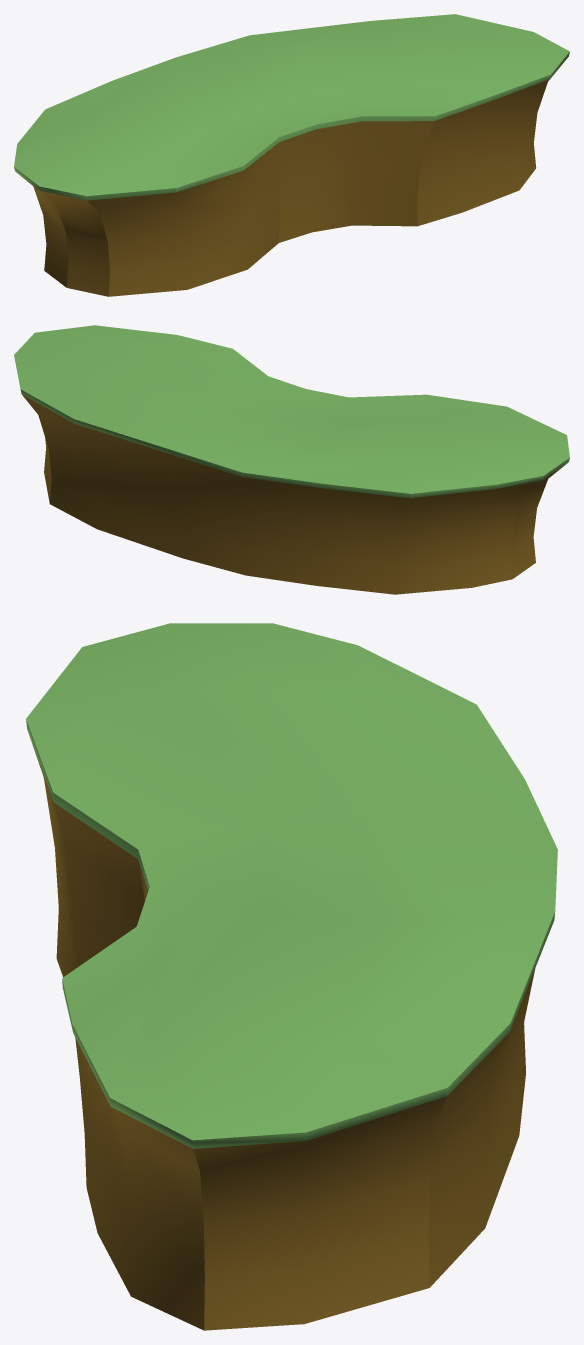
Rendered from Mesh_GroundBlock_03.fbx.
3 renders of one model, top to bottom at view 1: azimuth 30°, elevation 25°; view 2: azimuth 150°, elevation 25°; view 3: azimuth 270°, elevation 25°, orthographic. The views are drawn at different scales.
Parts seen in each view (by area): view 1: Land_03; view 2: Land_03; view 3: Land_03.
Boxes of the visible parts, x1=… form: Land_03: x1=14, y1=14, x2=569, y2=296; Land_03: x1=14, y1=325, x2=569, y2=594; Land_03: x1=26, y1=623, x2=557, y2=1330.
Bounding box in the file's own units: 158 × 33.99 × 68.52.
